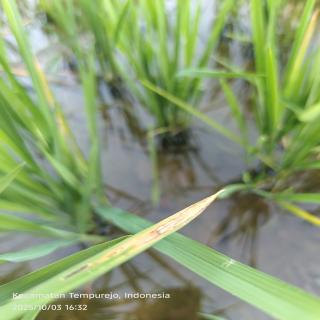Blast: (142, 198, 210, 242)
Hawar-Daun: (49, 189, 227, 290)
